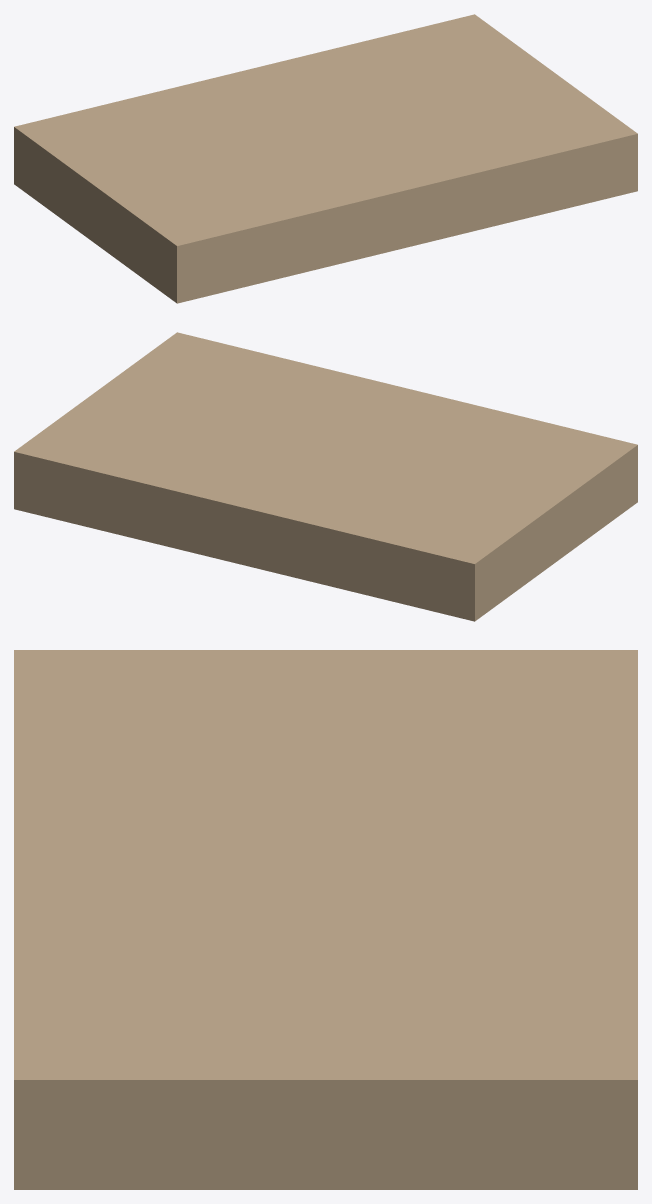
3 views of the same model, one above another, from view 1: azimuth 30°, elevation 25°; view 2: azimuth 150°, elevation 25°; view 3: azimuth 270°, elevation 25° (orthographic). The views are drawn at different scales.
Visible parts, largest first — view 1: FD-L12-GND-01; view 2: FD-L12-GND-01; view 3: FD-L12-GND-01.
Part boxes in pixels (box(x1,y1,x2,y2)): FD-L12-GND-01: box(14, 14, 637, 303); FD-L12-GND-01: box(14, 332, 637, 621); FD-L12-GND-01: box(14, 650, 637, 1189).
Bounding box in the file's own units: 15.1 × 1.8 × 9.26.
